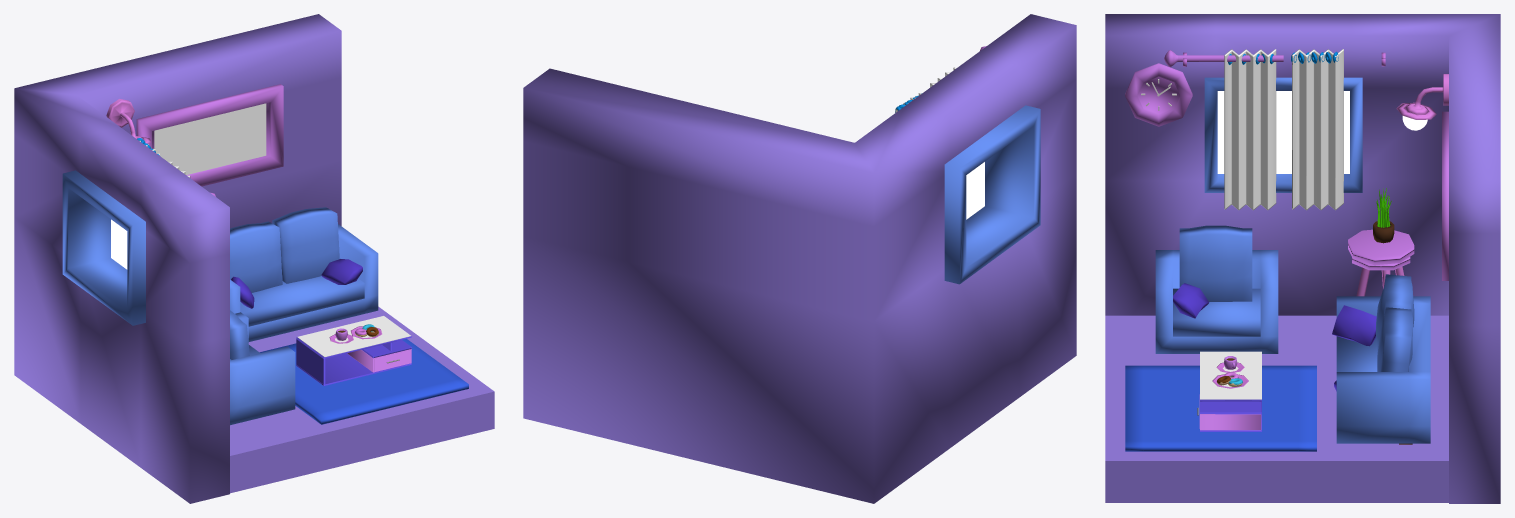
Rendered from isometric_room.glb.
3 renders of one model, left to right at view 1: azimuth 30°, elevation 25°; view 2: azimuth 150°, elevation 25°; view 3: azimuth 270°, elevation 25°, orthographic. The views are drawn at different scales.
Visible parts, largest first — view 1: walls, floor, window, rug, 155Z_2107.w026.n002.594B.p1.594, frame, couch 2, COUCH, big pillow, couch seat, big pollow 2, coffe table (+4 smaller); view 2: walls, window; view 3: walls, floor, curtain, rug, COUCH, window, couch 2, big pillow 3, Cylinder.002, couch seat.001, Plane.005, big pillow (+11 smaller).
Part boxes in pixels (<box>): walls: <box>14,14,341,503</box>; floor: <box>230,306,494,493</box>; window: <box>62,170,145,325</box>; rug: <box>260,339,468,424</box>; 155Z_2107.w026.n002.594B.p1.594: <box>154,103,266,174</box>; frame: <box>136,84,283,186</box>; couch 2: <box>230,312,295,425</box>; COUCH: <box>230,224,378,341</box>; big pillow: <box>272,207,339,283</box>; couch seat: <box>240,276,364,326</box>; big pollow 2: <box>230,221,282,292</box>; coffe table: <box>296,336,411,385</box>; walls: <box>523,14,1076,503</box>; window: <box>944,105,1040,284</box>; walls: <box>1105,14,1500,503</box>; floor: <box>1105,315,1448,502</box>; curtain: <box>1224,49,1343,210</box>; rug: <box>1125,365,1316,451</box>; COUCH: <box>1336,296,1430,443</box>; window: <box>1204,77,1362,192</box>; couch 2: <box>1155,250,1278,353</box>; big pillow 3: <box>1179,225,1252,301</box>; Cylinder.002: <box>1125,63,1192,126</box>; couch seat.001: <box>1173,288,1260,336</box>; Plane.005: <box>1200,351,1261,399</box>; big pillow: <box>1377,307,1412,371</box>.
Bounding box in the file's own units: 3.66 × 3.16 × 3.51.
